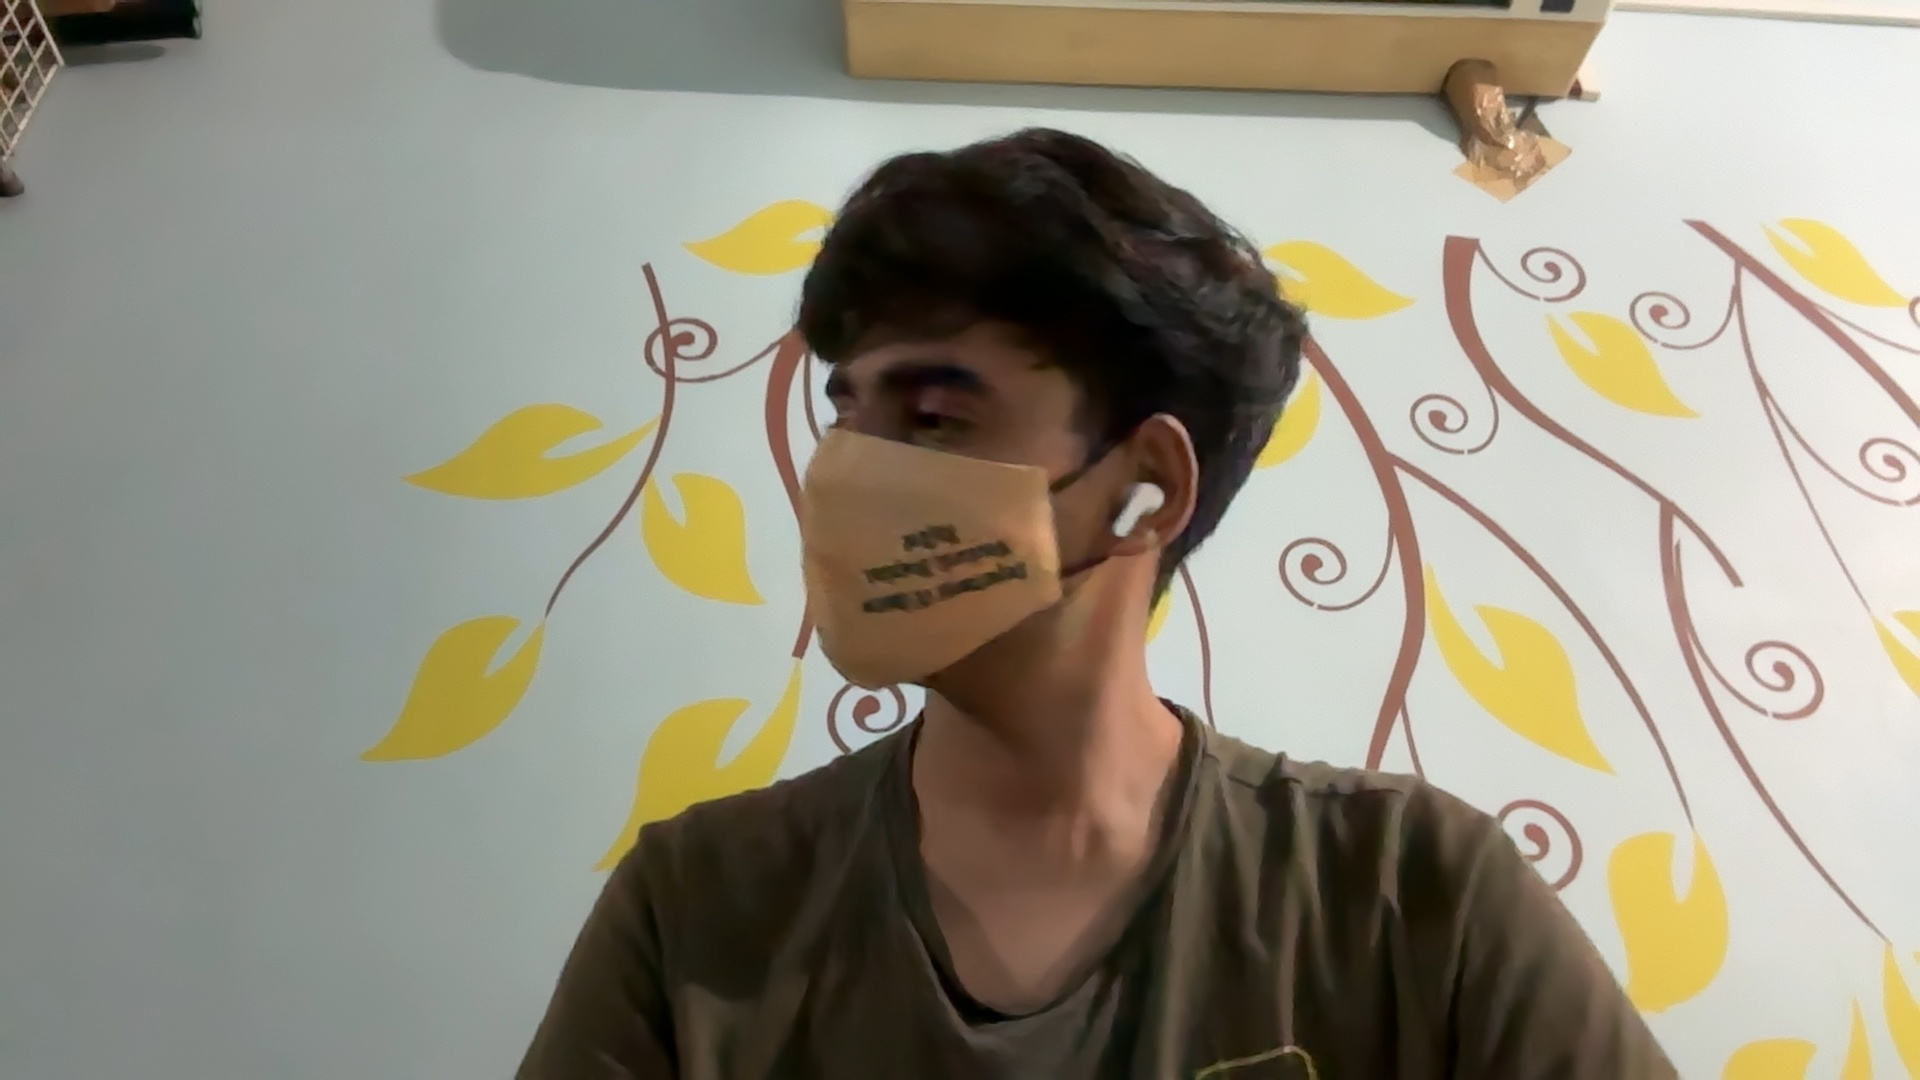Mask: (776, 427, 1067, 708)
